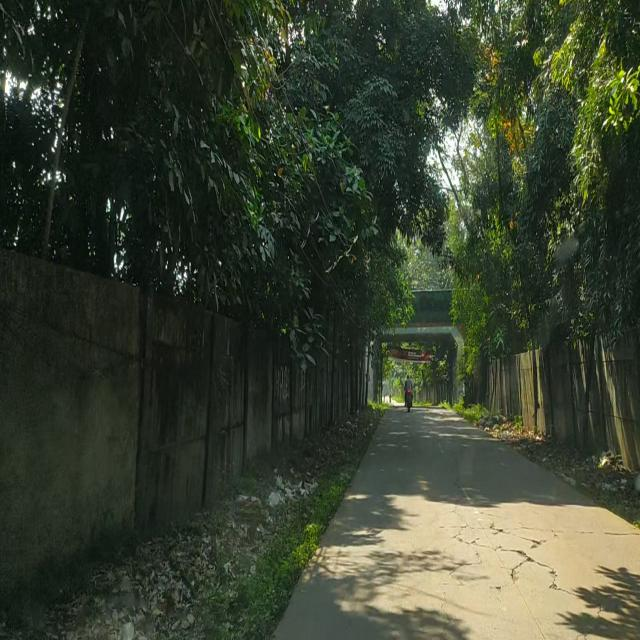Drain Hole: (445, 510, 570, 596)
